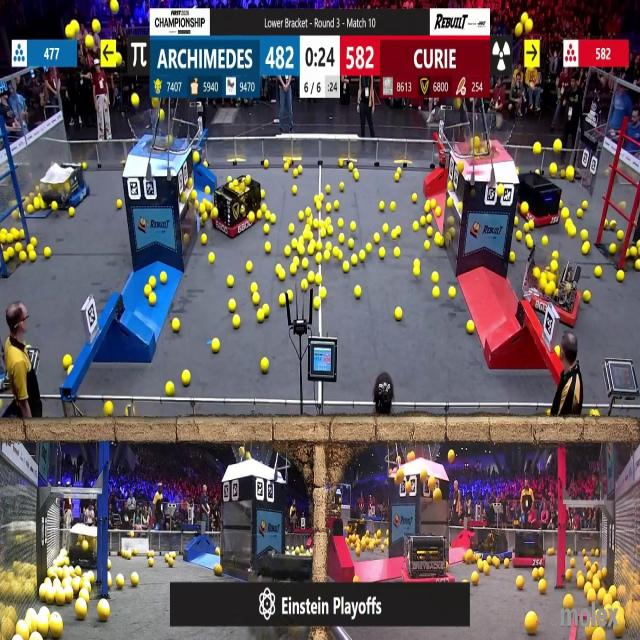ball_airborne: (472, 136, 483, 152), (132, 91, 140, 106), (524, 21, 533, 34), (432, 488, 440, 502), (66, 26, 74, 40), (86, 36, 95, 48), (110, 0, 118, 13), (93, 21, 101, 34), (517, 24, 524, 38), (554, 140, 562, 152), (395, 467, 403, 478), (151, 97, 158, 109), (115, 54, 122, 66), (449, 450, 455, 463), (192, 151, 199, 162), (71, 21, 78, 32), (458, 162, 464, 173), (409, 452, 415, 462), (522, 12, 528, 22), (161, 110, 165, 119), (168, 136, 172, 145)
ball_ground: (51, 617, 64, 640), (526, 614, 538, 636), (75, 600, 86, 620), (99, 601, 110, 621), (615, 621, 625, 639), (105, 403, 114, 418), (593, 630, 606, 640), (181, 372, 190, 386), (564, 595, 573, 609), (212, 339, 220, 354), (466, 320, 474, 334), (132, 572, 140, 586), (538, 581, 546, 595), (262, 358, 270, 372), (552, 162, 560, 176), (64, 355, 72, 368), (172, 319, 180, 332), (470, 571, 478, 584), (588, 591, 596, 604), (517, 576, 525, 589), (576, 575, 584, 588), (116, 574, 123, 588), (234, 316, 242, 328), (354, 286, 362, 298), (522, 203, 530, 215), (434, 235, 442, 247), (465, 551, 473, 563), (66, 589, 74, 601), (395, 308, 402, 321), (167, 382, 174, 395), (566, 168, 573, 181), (608, 244, 616, 255), (214, 564, 222, 575), (256, 311, 264, 322), (148, 293, 156, 304), (308, 273, 316, 284), (322, 250, 330, 261), (297, 245, 305, 256), (336, 248, 344, 259), (595, 267, 602, 279), (279, 294, 286, 306), (161, 272, 168, 284), (583, 243, 590, 255), (314, 296, 321, 308), (230, 301, 237, 313), (302, 257, 309, 269), (532, 568, 539, 580), (618, 272, 626, 282), (248, 212, 256, 222), (630, 248, 638, 258), (431, 273, 438, 284), (18, 251, 25, 262), (252, 293, 259, 304), (562, 208, 569, 219), (29, 251, 36, 262), (316, 252, 323, 263), (351, 254, 358, 265), (585, 290, 591, 302), (266, 242, 272, 254), (287, 290, 293, 302), (303, 280, 309, 292), (149, 277, 155, 289), (264, 305, 270, 317), (305, 232, 313, 241), (379, 248, 386, 258), (308, 245, 315, 255), (284, 246, 291, 256), (251, 283, 258, 293), (115, 200, 122, 210), (582, 232, 589, 242), (420, 216, 427, 226), (568, 228, 575, 238), (565, 569, 572, 579), (246, 263, 252, 274), (44, 247, 50, 258), (375, 234, 381, 245), (316, 274, 322, 285), (344, 263, 350, 274), (290, 266, 296, 277), (527, 238, 533, 249), (427, 228, 433, 239), (340, 234, 346, 245), (413, 221, 420, 230), (291, 169, 298, 178), (394, 248, 400, 258), (450, 287, 456, 297), (348, 239, 354, 249), (432, 287, 438, 297), (227, 276, 233, 286), (202, 235, 208, 245), (541, 237, 547, 247), (320, 288, 326, 298), (288, 223, 294, 233), (265, 222, 271, 232), (618, 232, 624, 242), (292, 239, 298, 249), (51, 202, 57, 212), (279, 271, 285, 281), (414, 268, 420, 278), (298, 211, 304, 221), (538, 568, 544, 578), (339, 218, 345, 228), (144, 285, 150, 295), (524, 221, 530, 231), (390, 202, 396, 212), (511, 252, 517, 262), (359, 251, 365, 261), (108, 575, 113, 587), (325, 242, 331, 252), (316, 242, 322, 252), (553, 250, 559, 260), (266, 212, 272, 222), (484, 565, 490, 575), (4, 253, 10, 263), (202, 212, 208, 222), (450, 229, 456, 239), (297, 238, 304, 246), (324, 218, 332, 225), (209, 253, 215, 262), (380, 202, 386, 211), (517, 232, 523, 241), (424, 241, 430, 250), (340, 182, 346, 191), (291, 184, 297, 193), (395, 225, 401, 234), (394, 173, 400, 182), (365, 244, 371, 253), (69, 208, 75, 217), (350, 221, 356, 230), (320, 230, 326, 239), (426, 214, 432, 223), (271, 214, 277, 223), (335, 202, 341, 211), (414, 258, 420, 267), (306, 207, 312, 216), (424, 205, 430, 214), (28, 205, 34, 214), (256, 211, 262, 220), (325, 184, 331, 193), (8, 248, 14, 257), (165, 555, 171, 564), (413, 192, 418, 202), (327, 225, 332, 235), (354, 172, 359, 182), (556, 346, 561, 356), (314, 218, 319, 228), (183, 235, 188, 245), (39, 200, 44, 210), (148, 559, 154, 567), (383, 224, 389, 232), (18, 232, 24, 240), (583, 202, 589, 210), (316, 203, 322, 211), (326, 204, 332, 212), (14, 244, 20, 252), (292, 255, 298, 263), (591, 412, 599, 418), (259, 189, 265, 197), (429, 201, 435, 209), (259, 204, 265, 212), (448, 200, 453, 209), (576, 209, 581, 218), (31, 239, 36, 248), (515, 217, 520, 226), (308, 216, 313, 225), (449, 217, 454, 226), (284, 164, 289, 173), (193, 201, 198, 210), (458, 202, 463, 211), (636, 261, 640, 272), (353, 575, 359, 582), (205, 186, 211, 193), (314, 193, 320, 200), (435, 208, 440, 216), (392, 230, 396, 240), (319, 192, 324, 200), (349, 164, 354, 172), (356, 549, 361, 557), (170, 558, 174, 567), (191, 190, 195, 199), (306, 224, 312, 230), (215, 547, 220, 554), (297, 167, 302, 174), (550, 550, 555, 557), (149, 552, 154, 559), (504, 560, 508, 568), (108, 561, 112, 569), (265, 162, 269, 170), (82, 163, 86, 171), (340, 160, 344, 168), (568, 550, 572, 558), (188, 178, 192, 186), (545, 411, 550, 417), (570, 560, 574, 567), (560, 201, 564, 208), (582, 550, 586, 557)
goal: (128, 113, 188, 152), (460, 118, 517, 158)
robot_blue: (42, 164, 90, 210), (476, 528, 512, 563), (346, 519, 369, 542)
robot_red: (525, 253, 583, 325), (213, 176, 263, 239), (519, 172, 562, 228), (405, 536, 452, 586), (514, 529, 546, 569)
